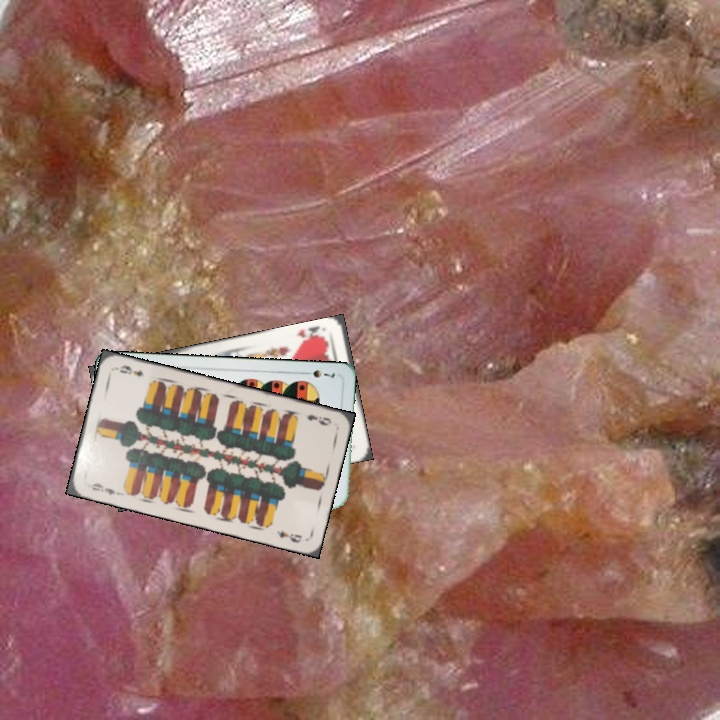E9: (83, 478, 123, 498), (302, 410, 334, 428)
HK: (293, 322, 327, 346)
S7: (299, 366, 337, 381)
